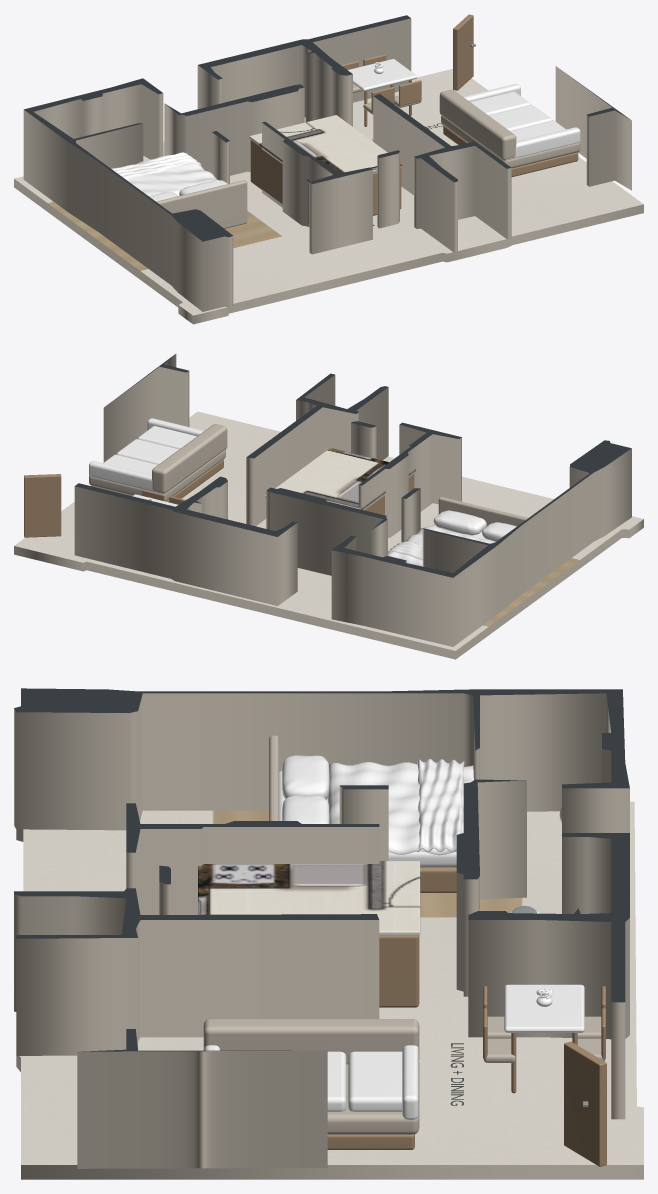
Rendered from coral-group-unit-08.glb.
The picture shows the model from 3 angles, top to bottom: view 1: azimuth 30°, elevation 25°; view 2: azimuth 150°, elevation 25°; view 3: azimuth 270°, elevation 25°; orthographic projection. The views are drawn at different scales.
Parts seen in each view (by area): view 1: Partition walls, Apartment floor, Stone worktop, Sofa back, Upholstered headboard, Kitchen cabinets, Draped bed linen, Open oak door, Marble dining top, Padded armrest, Upholstered sofa frame, Draped bed linen.001 (+6 smaller); view 2: Partition walls, Apartment floor, Stone worktop, Sofa back, Open oak door, Upholstered headboard, Upholstered sofa frame, Padded armrest.001, Tailored pillow.001, Seat cushion.001, Seat cushion, Draped bed linen (+3 smaller); view 3: Partition walls, Apartment floor, Stone worktop, Sofa back, Draped bed linen, Open oak door, Draped bed linen.001, Marble dining top, Seat cushion.002, Kitchen cabinets, Upholstered sofa frame, Tailored pillow (+7 smaller).
Boxes of the visible parts, bbox=[...] form: Partition walls: bbox=[23, 15, 631, 311]; Apartment floor: bbox=[14, 69, 643, 324]; Stone worktop: bbox=[249, 115, 402, 181]; Sofa back: bbox=[439, 89, 516, 160]; Upholstered headboard: bbox=[156, 180, 247, 228]; Kitchen cabinets: bbox=[250, 139, 401, 223]; Draped bed linen: bbox=[111, 153, 218, 196]; Open oak door: bbox=[453, 14, 473, 90]; Marble dining top: bbox=[348, 59, 417, 91]; Padded armrest: bbox=[503, 127, 580, 160]; Upholstered sofa frame: bbox=[441, 115, 580, 168]; Draped bed linen.001: bbox=[112, 152, 201, 179]; Partition walls: bbox=[74, 353, 631, 646]; Apartment floor: bbox=[14, 411, 643, 659]; Stone worktop: bbox=[265, 448, 415, 509]; Sofa back: bbox=[152, 424, 227, 493]; Open oak door: bbox=[24, 474, 61, 537]; Upholstered headboard: bbox=[438, 496, 527, 526]; Upholstered sofa frame: bbox=[89, 449, 225, 501]; Padded armrest.001: bbox=[89, 461, 164, 493]; Tailored pillow.001: bbox=[433, 510, 486, 535]; Seat cushion.001: bbox=[116, 439, 178, 464]; Seat cushion: bbox=[137, 426, 196, 449]; Draped bed linen: bbox=[388, 526, 493, 566]; Partition walls: bbox=[14, 688, 629, 1168]; Apartment floor: bbox=[16, 801, 643, 1179]; Stone worktop: bbox=[198, 861, 420, 935]; Sofa back: bbox=[203, 1019, 419, 1064]; Draped bed linen: bbox=[327, 762, 479, 855]; Open oak door: bbox=[564, 1041, 606, 1166]; Draped bed linen.001: bbox=[417, 759, 464, 852]; Marble dining top: bbox=[504, 984, 584, 1032]; Seat cushion.002: bbox=[348, 1051, 402, 1111]; Kitchen cabinets: bbox=[379, 935, 419, 1007]; Upholstered sofa frame: bbox=[327, 1062, 419, 1134]; Tailored pillow: bbox=[282, 755, 329, 799].
Size of the model in its own units: 8.72 by 1.44 by 6.24.
Materials: 12 (2 with a texture image).
